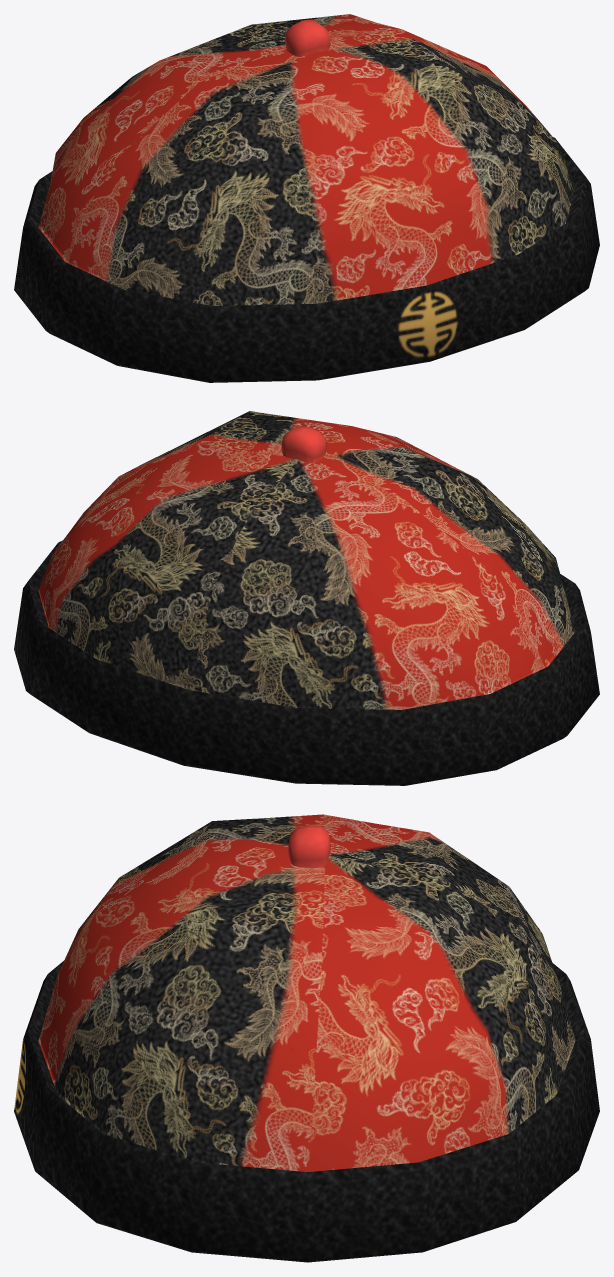
The model's file is Chinese_Cap.glb.
3 views of the same model, one above another, from view 1: azimuth 30°, elevation 25°; view 2: azimuth 150°, elevation 25°; view 3: azimuth 270°, elevation 25° (orthographic). The views are drawn at different scales.
Visible parts, largest first — view 1: Chinese_Cap; view 2: Chinese_Cap; view 3: Chinese_Cap.
Part boxes in pixels (x1,y1,x2,y2): Chinese_Cap: (14, 14, 599, 382); Chinese_Cap: (14, 411, 599, 785); Chinese_Cap: (14, 814, 599, 1262).
Bounding box in the file's own units: 1.06 × 0.4787 × 0.8804.
Materials: 2 (2 with a texture image).
